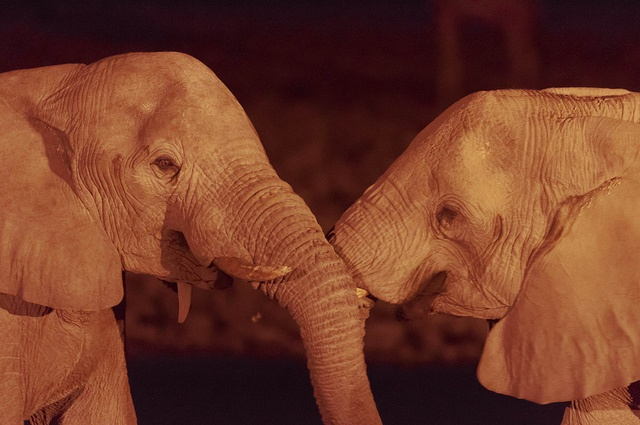elephant: (1, 49, 383, 422), (322, 87, 638, 425)
